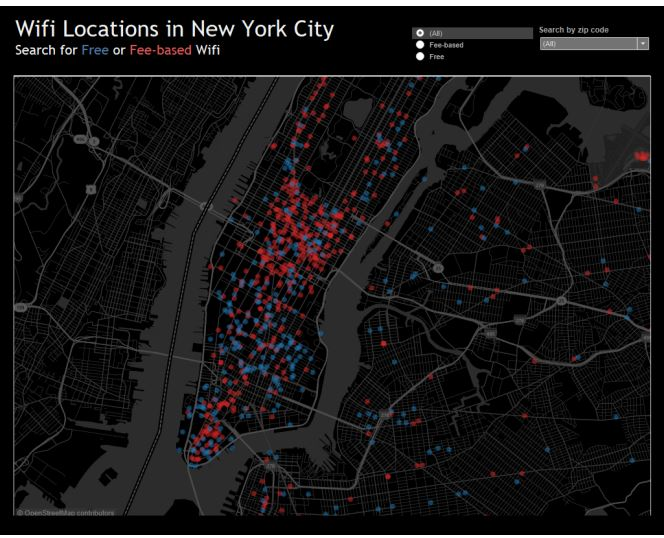

What the dashboard file says about the page in this screenshot:
{"tool":"tableau","page":{"name":"Dashboard 1","canvas":[1000,800],"ordinal":0},"visuals":[{"type":"worksheet","title":"Sheet 1","mark":"Automatic","rows":["Latitude"],"cols":["Longitude"],"box":[8,8,984,784]},{"type":"filter","title":"Sheet 1","param":"[federated.022r3ox1202qnj15ph5qy1fppeqj].[none:TYPE:nk]","box":[569,22,175,72]},{"type":"filter","title":"Sheet 1","param":"[federated.022r3ox1202qnj15ph5qy1fppeqj].[none:ZIP:ok]","box":[800,26,168,52]}]}

Visuals, with their boxes on the page's 1000x800 design canvas (x1, y1, x2, y2). These are canvas units, not pixel positions in the 664x538 screenshot, which may show the page scaled, cropped or inside an application window:
"Sheet 1" worksheet: {"left": 8, "top": 8, "right": 992, "bottom": 792}
"Sheet 1" filter: {"left": 569, "top": 22, "right": 744, "bottom": 94}
"Sheet 1" filter: {"left": 800, "top": 26, "right": 968, "bottom": 78}
